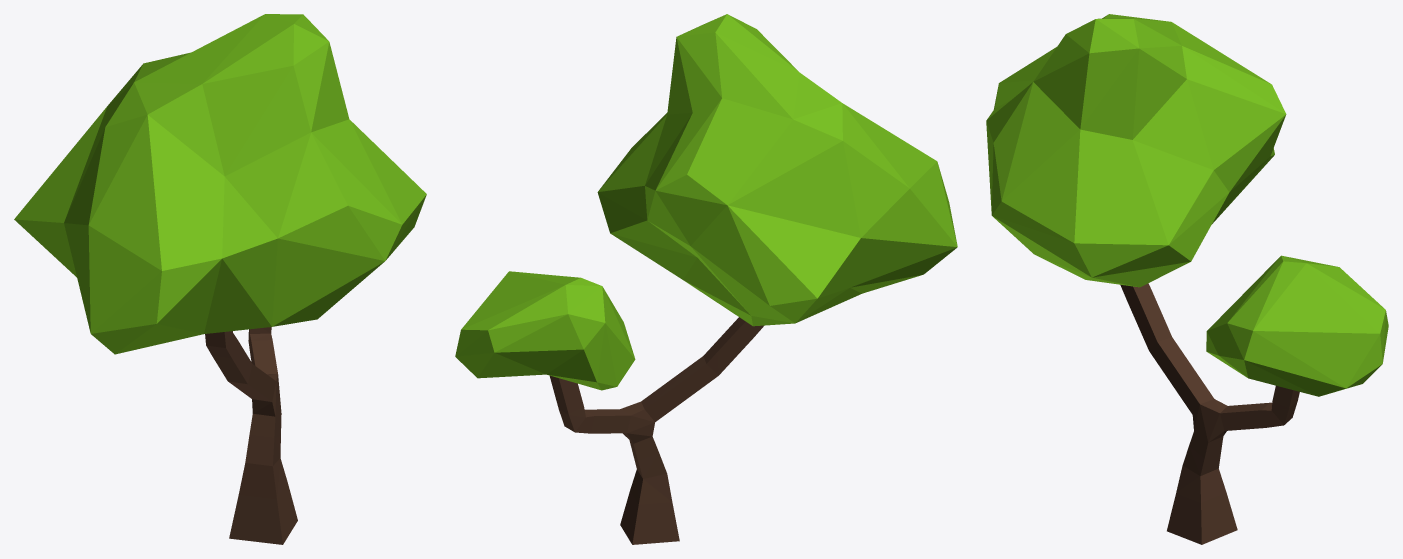
Rendered from tree_01.dae.
The picture shows the model from 3 angles, left to right: view 1: azimuth 30°, elevation 25°; view 2: azimuth 150°, elevation 25°; view 3: azimuth 270°, elevation 25°; orthographic projection. The views are drawn at different scales.
Visible parts, largest first — view 1: Head, Branch; view 2: Head, Branch; view 3: Head, Branch.
Boxes of the visible parts, x1,y1,x2,y2 form: Head: (14,14,426,354); Branch: (205,327,297,544); Head: (455,14,957,390); Branch: (549,317,763,544); Head: (986,14,1388,396); Branch: (1120,283,1299,544).
Bounding box in the file's own units: 4.23 × 4.08 × 5.59.
